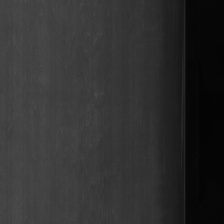silk_spot: (77, 28, 113, 170), (173, 59, 184, 145)
